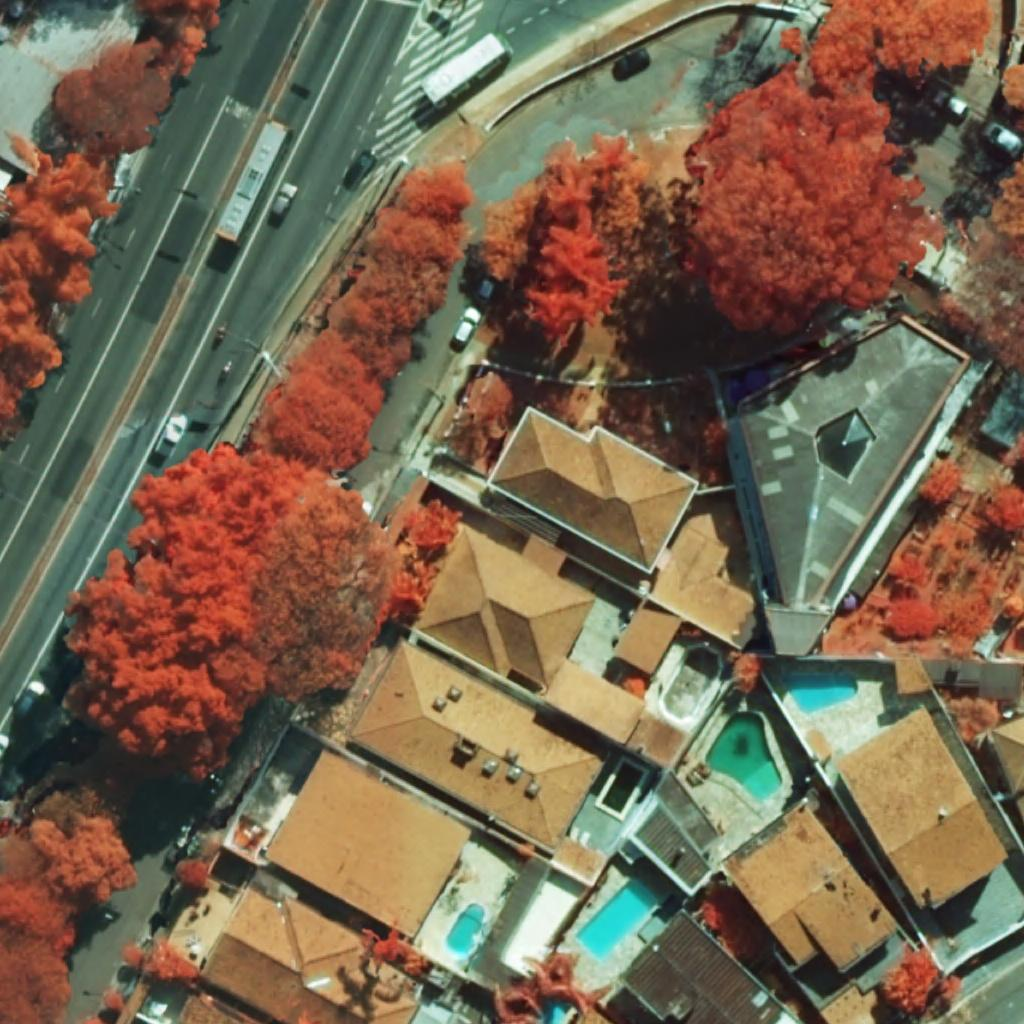pool: (706, 711, 782, 802), (575, 879, 658, 961), (784, 675, 858, 714), (447, 903, 484, 954)
